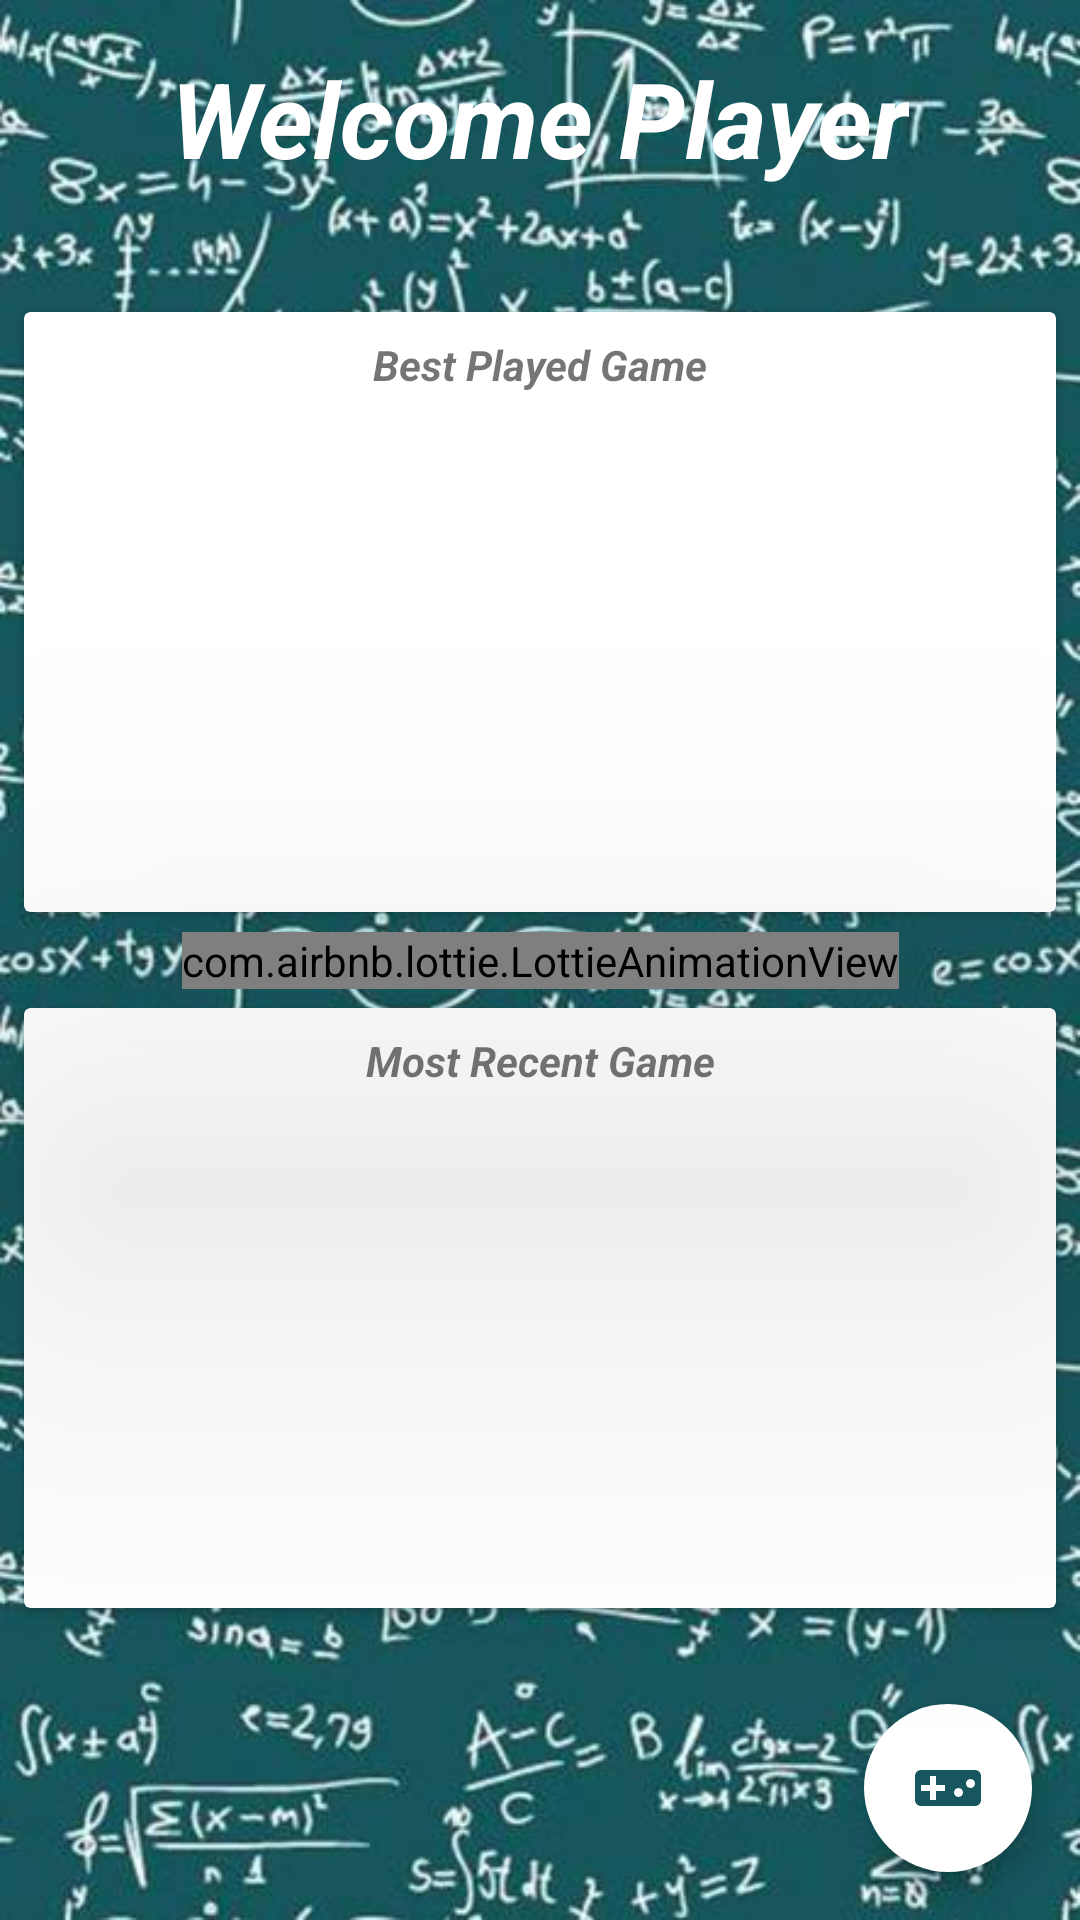

Icons on this 1080px x 1920px Android screen, each with its box as (x1, y1, x2, y2):
videogame: (864, 1704, 1032, 1872)
